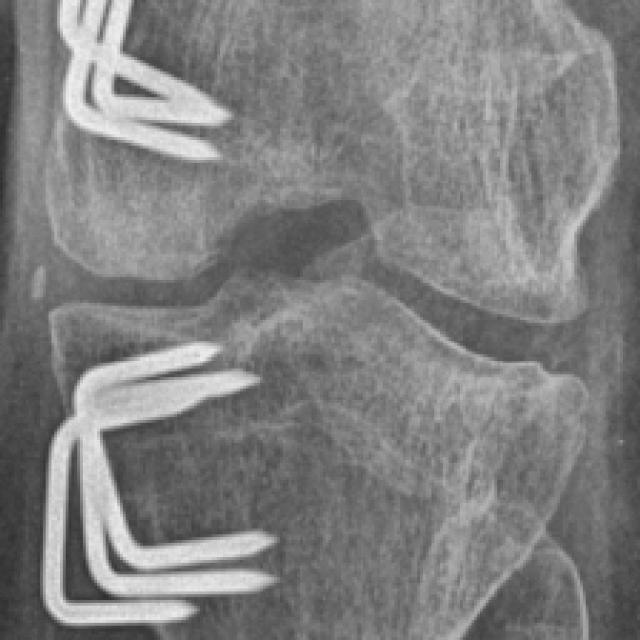femur: (46, 0, 621, 324)
tibia: (41, 267, 590, 640)
